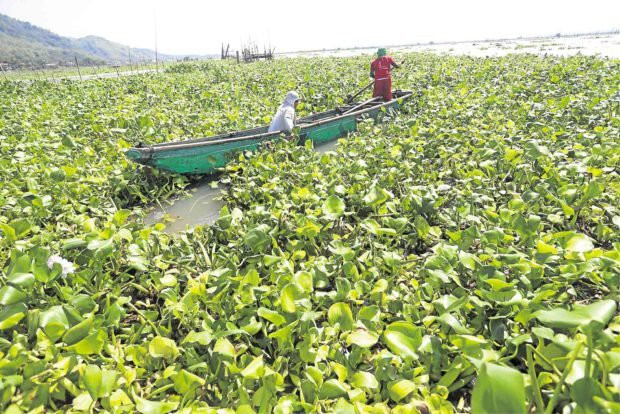water_hyacinth: (0, 239, 310, 414)
